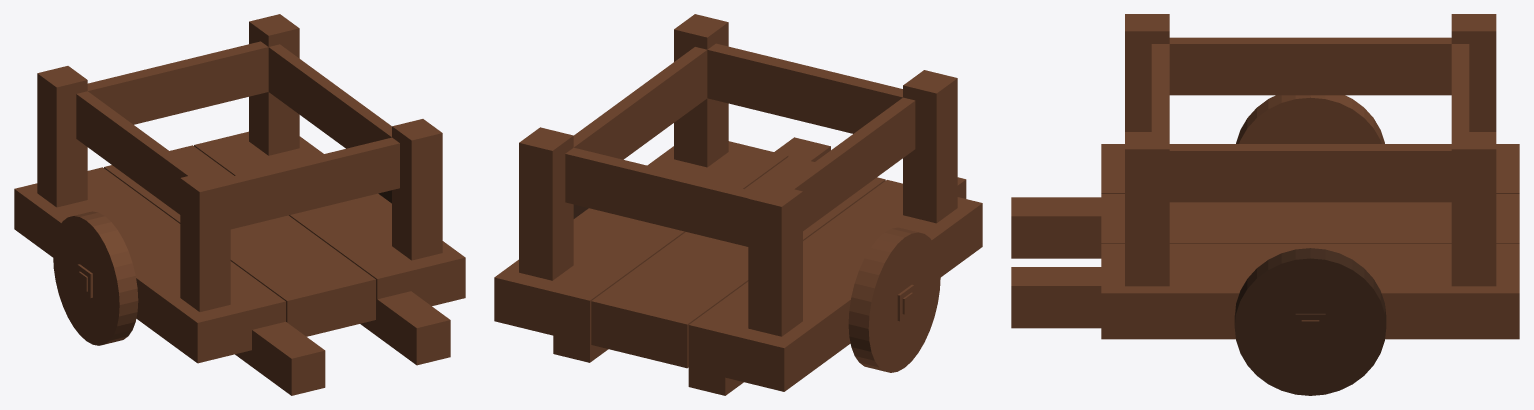
The model's file is cart.fbx.
3 views of the same model, side by side, from view 1: azimuth 30°, elevation 25°; view 2: azimuth 150°, elevation 25°; view 3: azimuth 270°, elevation 25° (orthographic). The views are drawn at different scales.
Parts seen in each view (by area): view 1: woodBasePlanks; view 2: woodBasePlanks; view 3: woodBasePlanks.
Part boxes in pixels (x1,y1,x2,y2): woodBasePlanks: (14,14,465,395); woodBasePlanks: (494,14,982,395); woodBasePlanks: (1011,14,1519,395).
Bounding box in the file's own units: 2.35 × 1.43 × 2.88.
